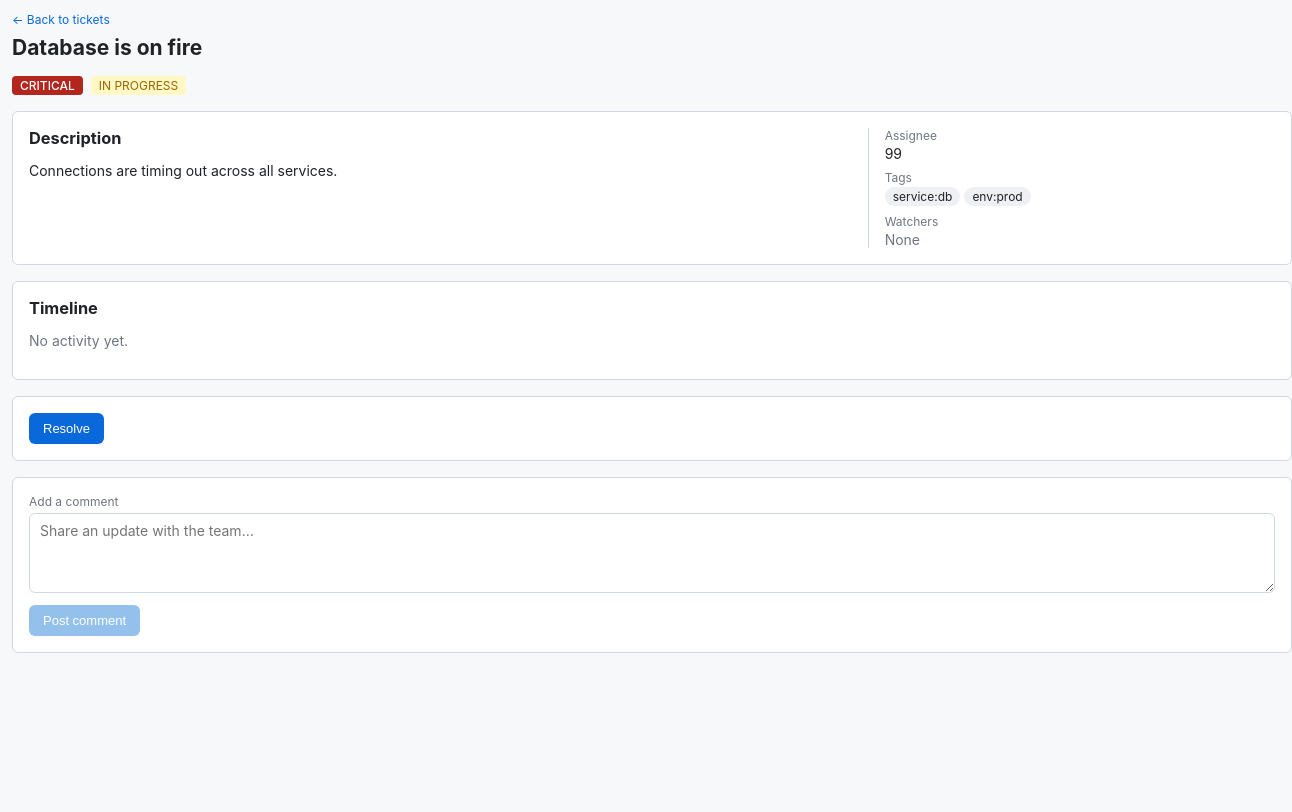
Test: TicketDetailPage › submits a comment and renders it in the timeline
The image size is (1292, 812).
In the text box labelled "Add a comment": coordinates (652, 553) [29,513,1275,593], type "Looking into it now."
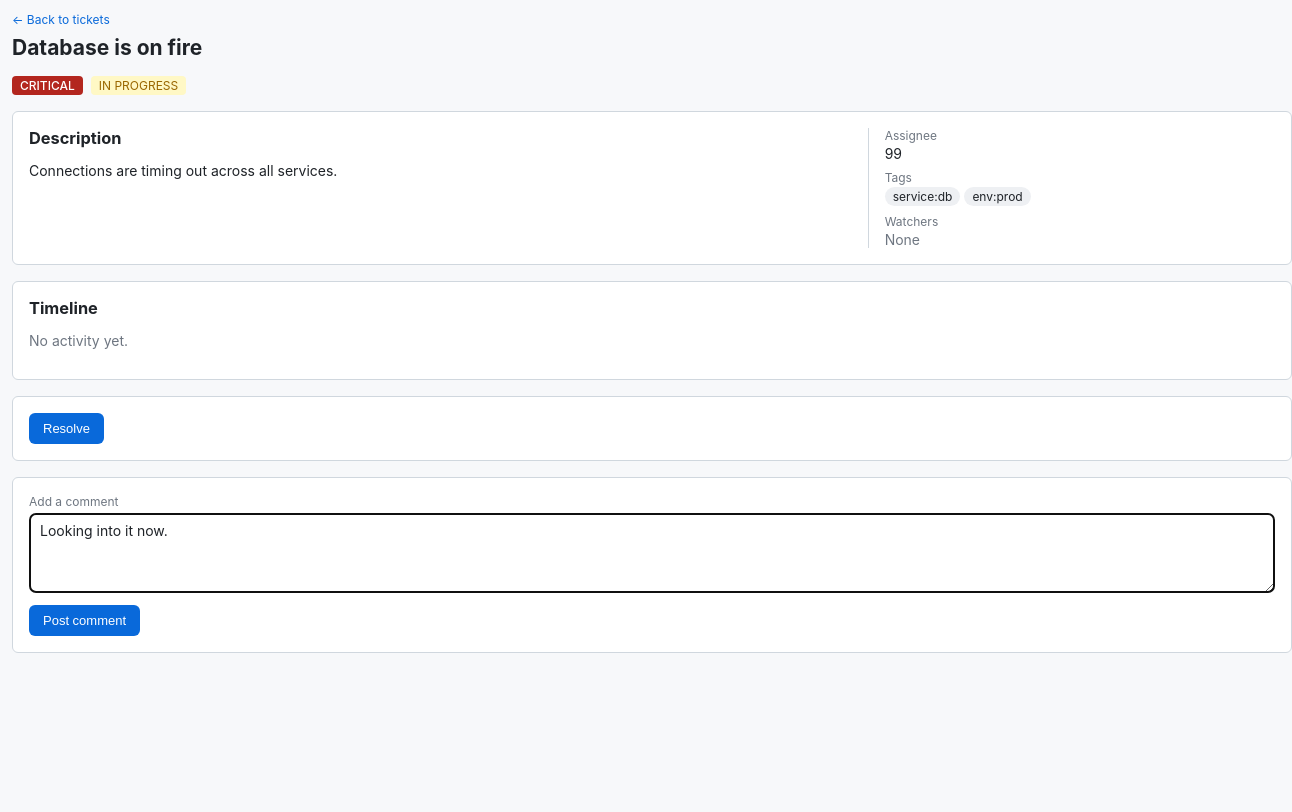
Click the button "Post comment": coordinates (85, 620) [29,605,140,636]
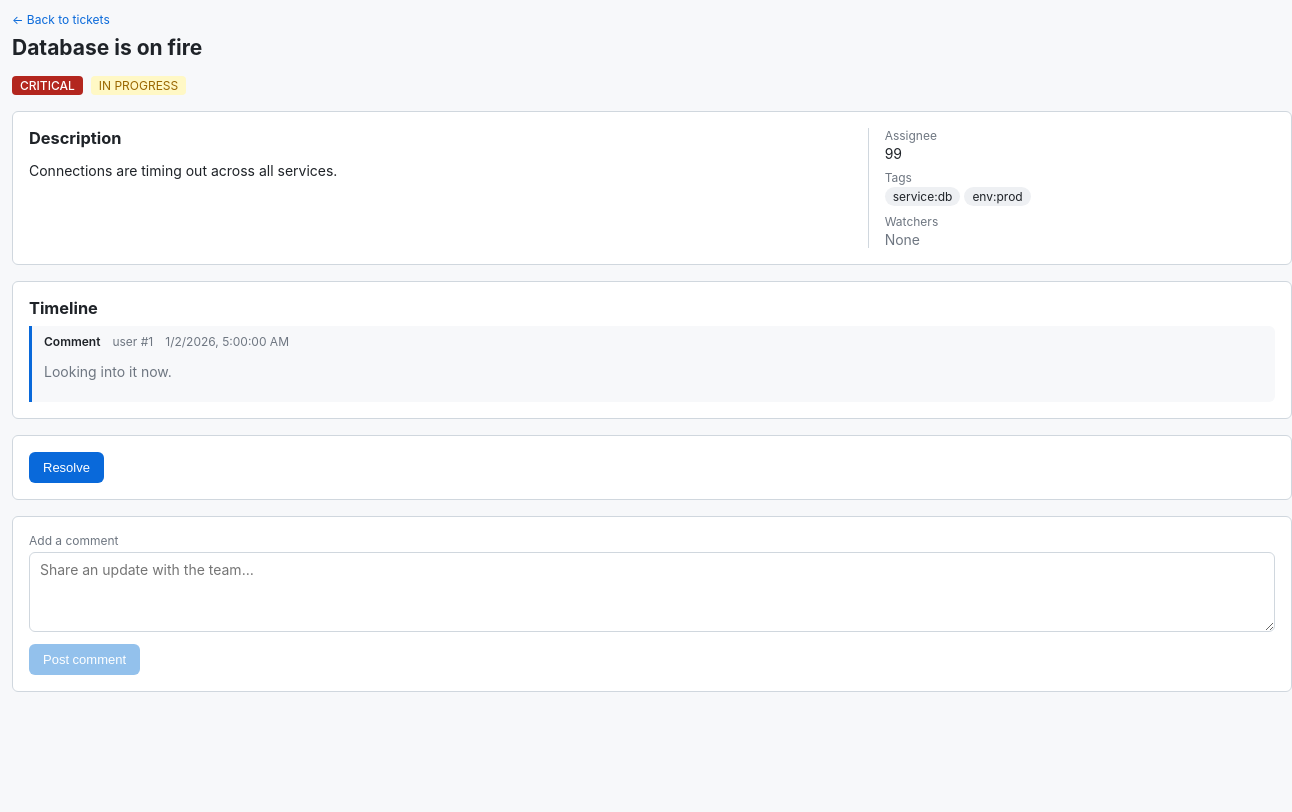
expect the text "Looking into it now." is shown: met, box [44,363,172,380]
expect the text box labelled "Add a comment" is empty: met, box [29,552,1275,632]
